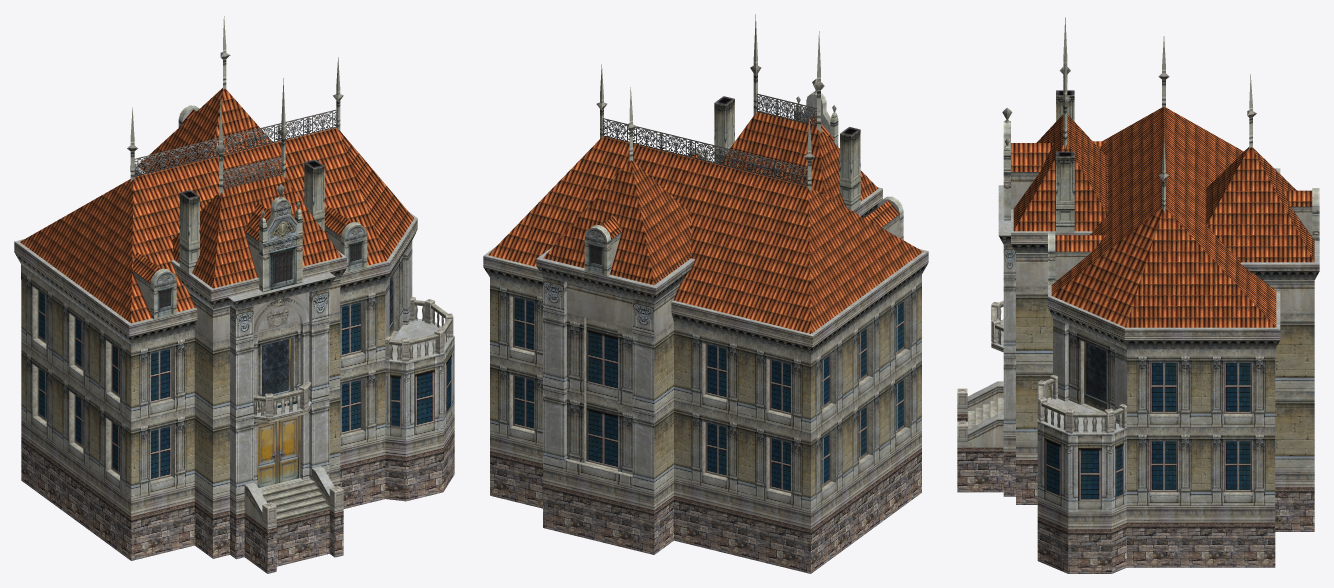
Rendered from rd_vil7.glb.
3 renders of one model, left to right at view 1: azimuth 30°, elevation 25°; view 2: azimuth 150°, elevation 25°; view 3: azimuth 270°, elevation 25°, orthographic.
Visible parts, largest first — view 1: rd_vil7-col; view 2: rd_vil7-col; view 3: rd_vil7-col.
Boxes of the visible parts, x1,y1,x2,y2 form: rd_vil7-col: (14, 16, 454, 573); rd_vil7-col: (483, 14, 928, 573); rd_vil7-col: (957, 17, 1319, 573).
Size of the model in its own units: 21.1 by 26.46 by 19.57.
13 materials, 13 textured.
